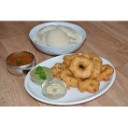vada: (70, 57, 93, 78), (77, 77, 99, 93), (62, 69, 78, 87), (99, 65, 114, 80), (63, 54, 79, 67), (93, 61, 102, 77)
